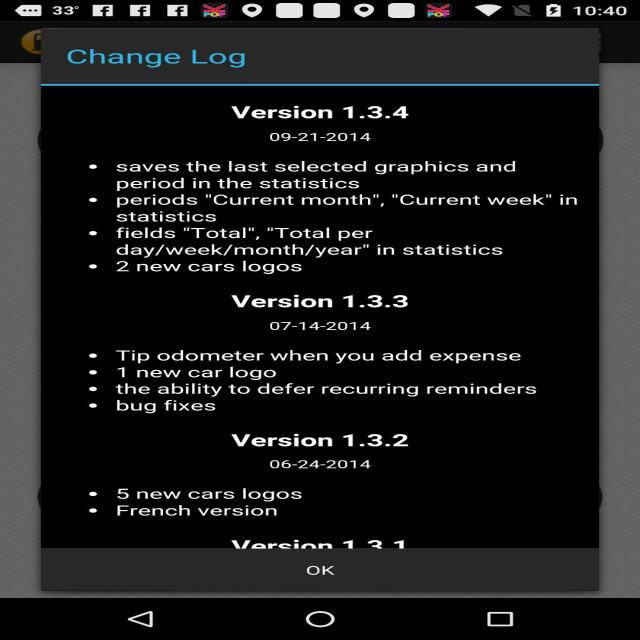button: (45, 556, 602, 589), (2, 608, 640, 634)
icon: (10, 2, 640, 28)
text: (50, 89, 600, 553)
